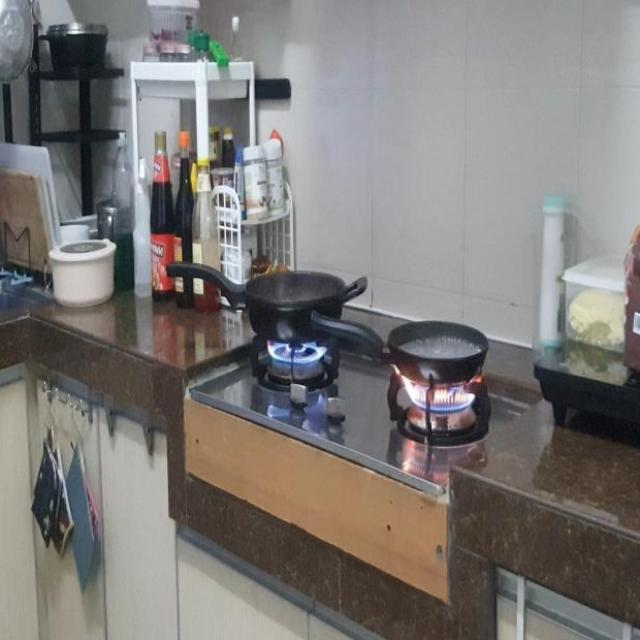smoke: (388, 360, 485, 414), (264, 335, 330, 366)
